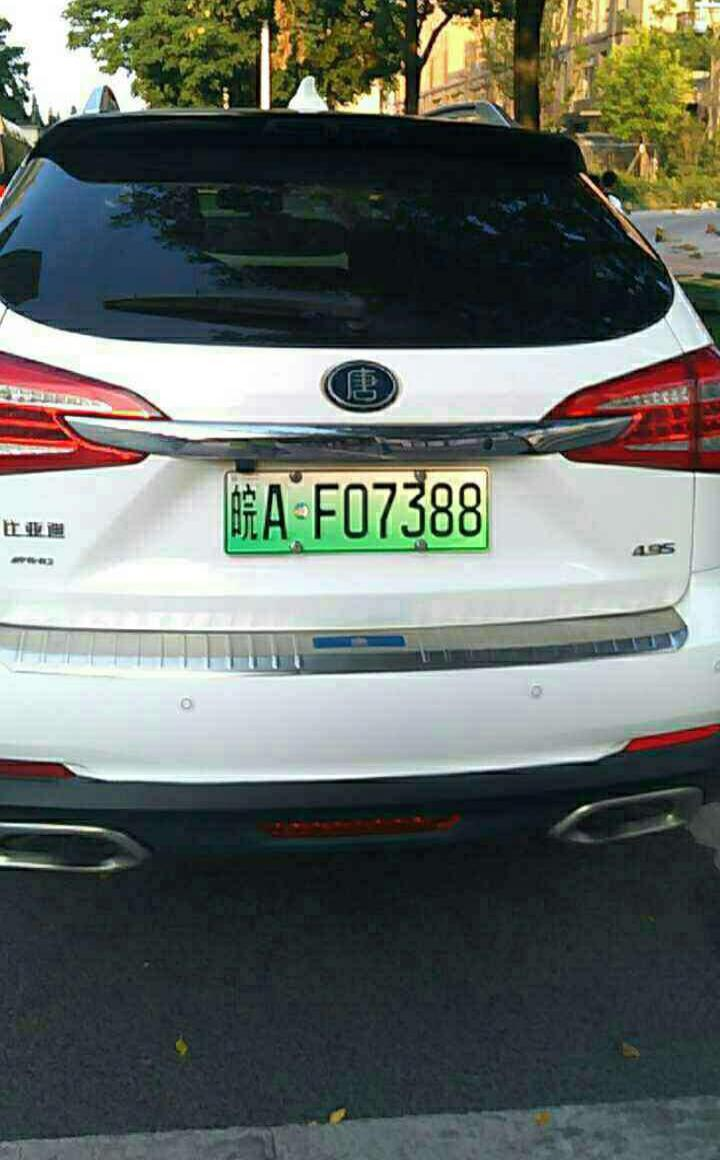car: (207, 469, 500, 558)
